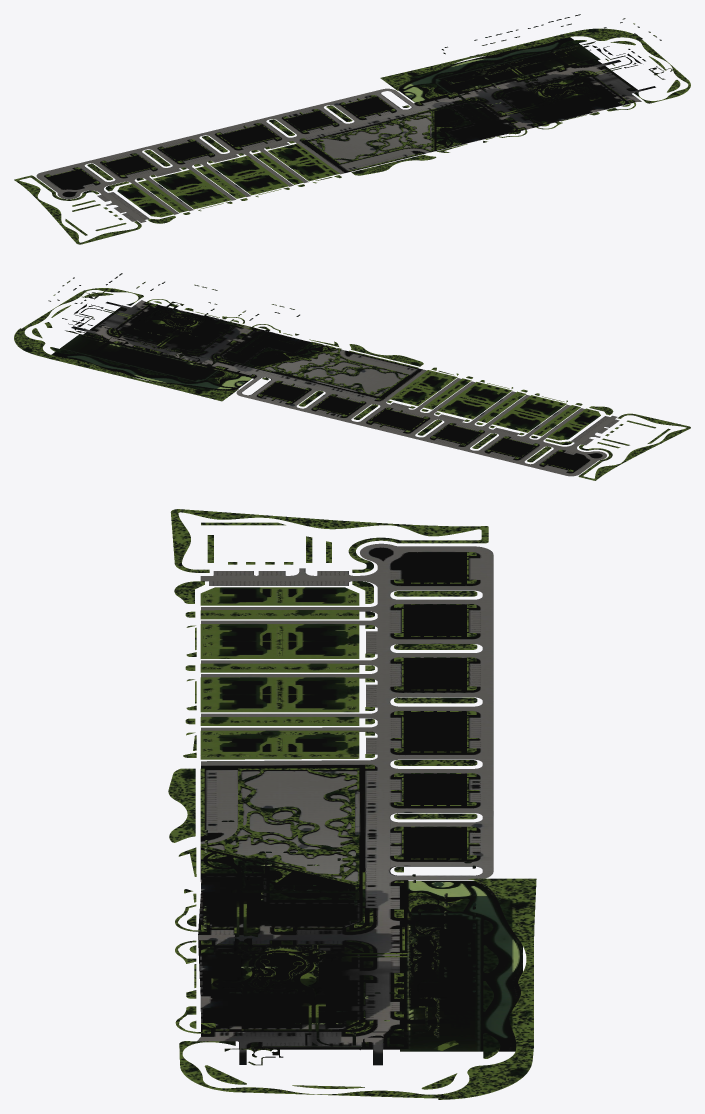
The model's file is MAG_11_Build_main_1.glb.
3 views of the same model, one above another, from view 1: azimuth 30°, elevation 25°; view 2: azimuth 150°, elevation 25°; view 3: azimuth 270°, elevation 25° (orthographic). The views are drawn at different scales.
Visible parts, largest first — view 1: Main _ground.001; view 2: Main _ground.001; view 3: Main _ground.001.
Part boxes in pixels (bbox=[...]): Main _ground.001: bbox=[14, 14, 690, 244]; Main _ground.001: bbox=[14, 273, 690, 480]; Main _ground.001: bbox=[168, 509, 536, 1099].
Bounding box in the file's own units: 775 × 36.52 × 204.
2 materials, 2 textured.
